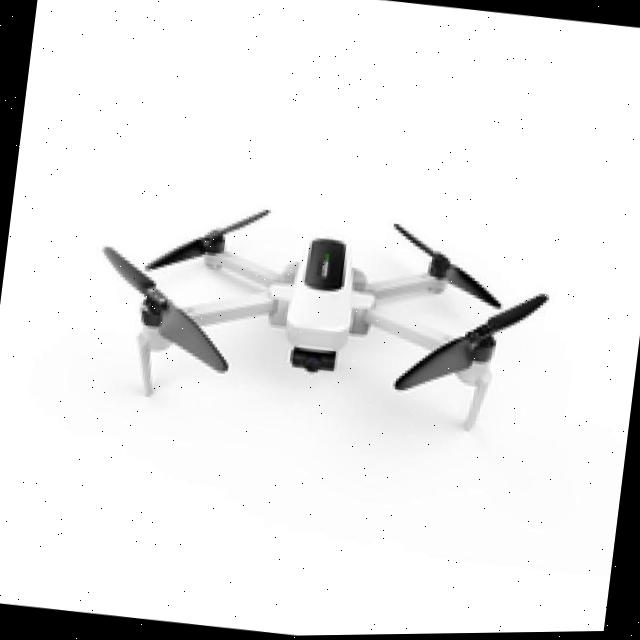drone: (68, 169, 557, 451)
